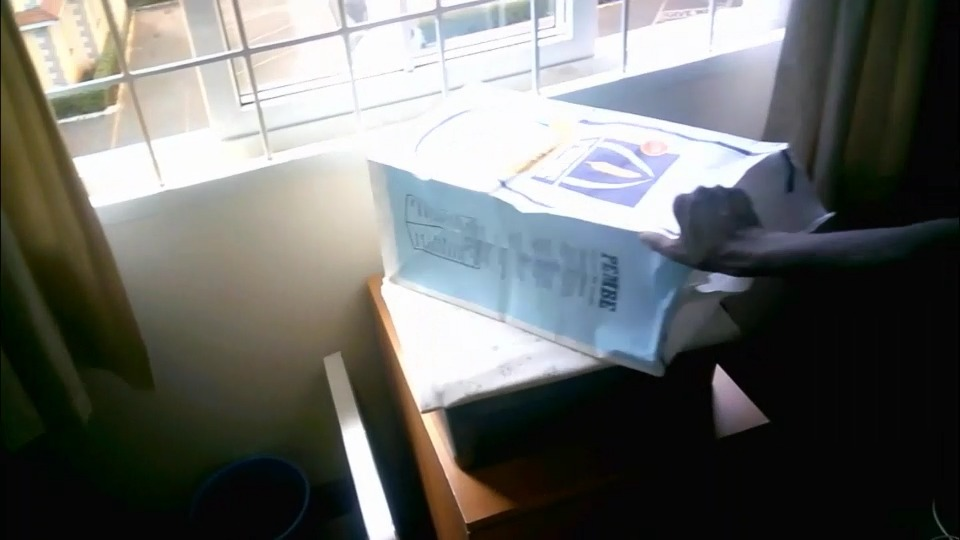wheat_flour_blue_label: (376, 72, 792, 355)
